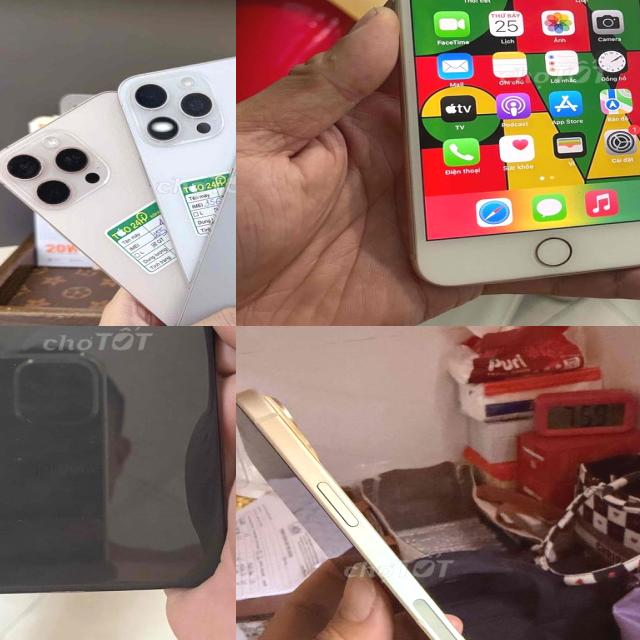gen_15: (236, 384, 567, 640)
gen_7_8: (394, 0, 640, 288), (0, 326, 236, 602)
